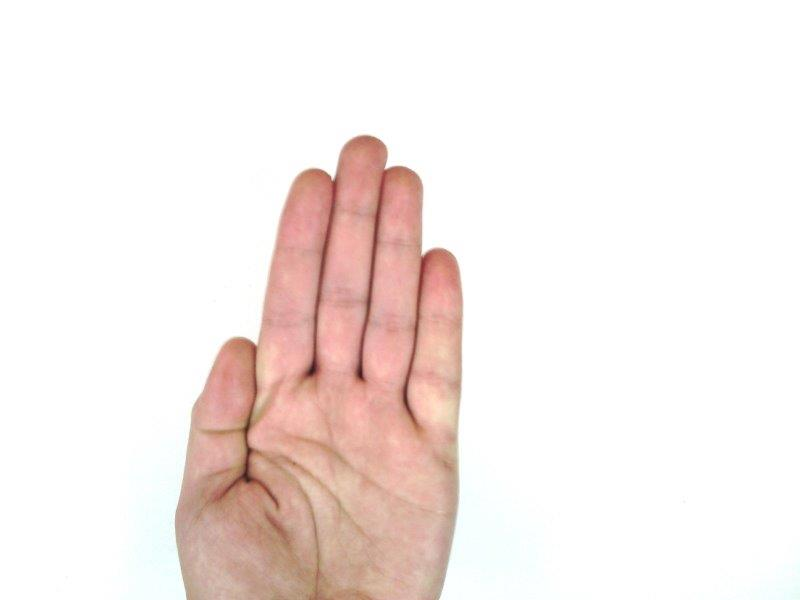hand: (175, 137, 462, 595)
